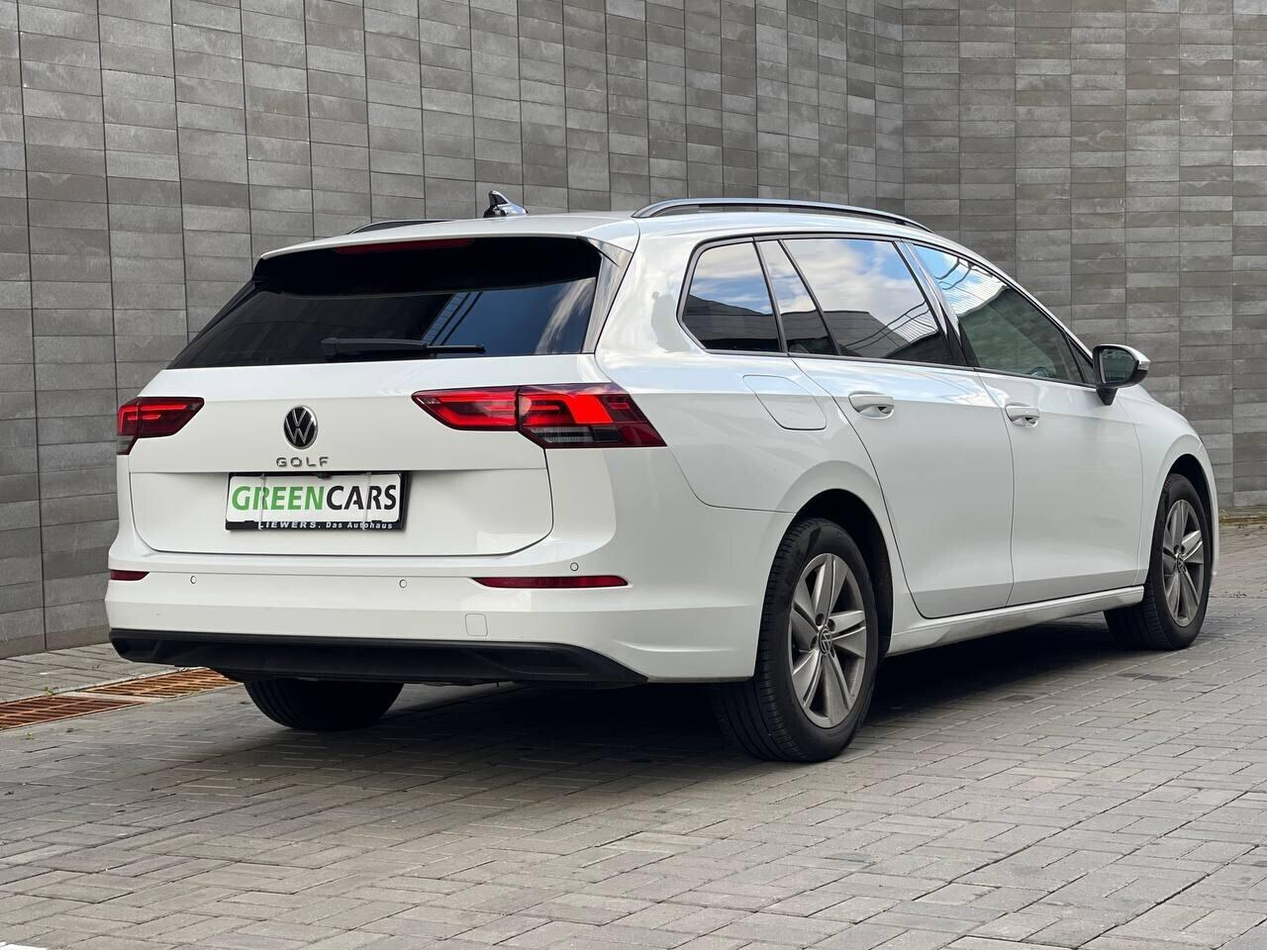Golf_2019: (101, 209, 1227, 755)
